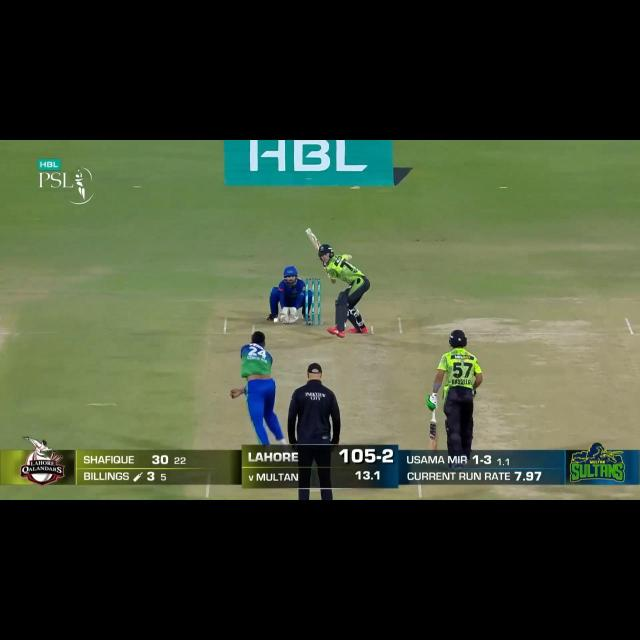bat: (417, 414, 442, 447), (304, 230, 323, 250)
toe: (299, 223, 317, 236)
